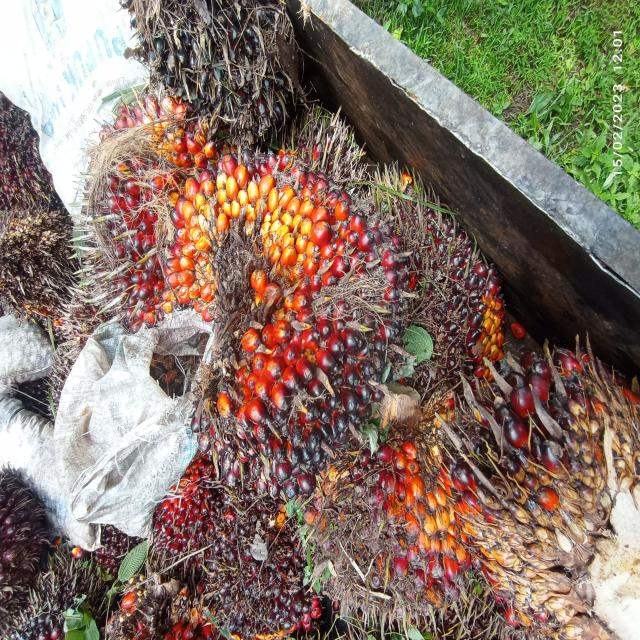fraksi 00: (380, 163, 516, 425), (194, 478, 317, 640)
fraksi 1: (145, 114, 423, 499), (70, 43, 226, 344), (328, 424, 474, 632)
